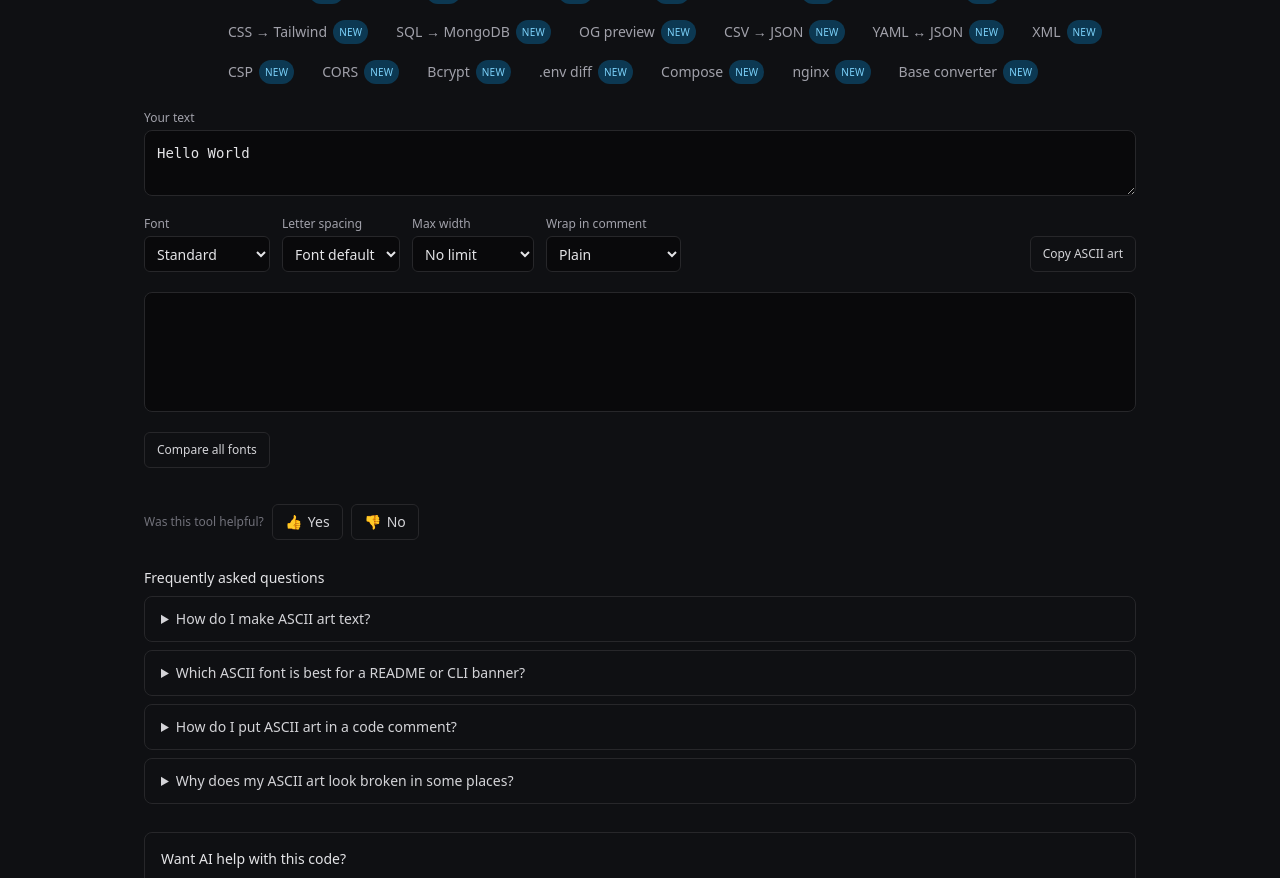
Scenario: AsciiArtPage › opens the font gallery and picks a font from it
(page scrolled)
Click the button with test id "ascii-gallery-toggle": (207, 450) 144,432 -> 270,468
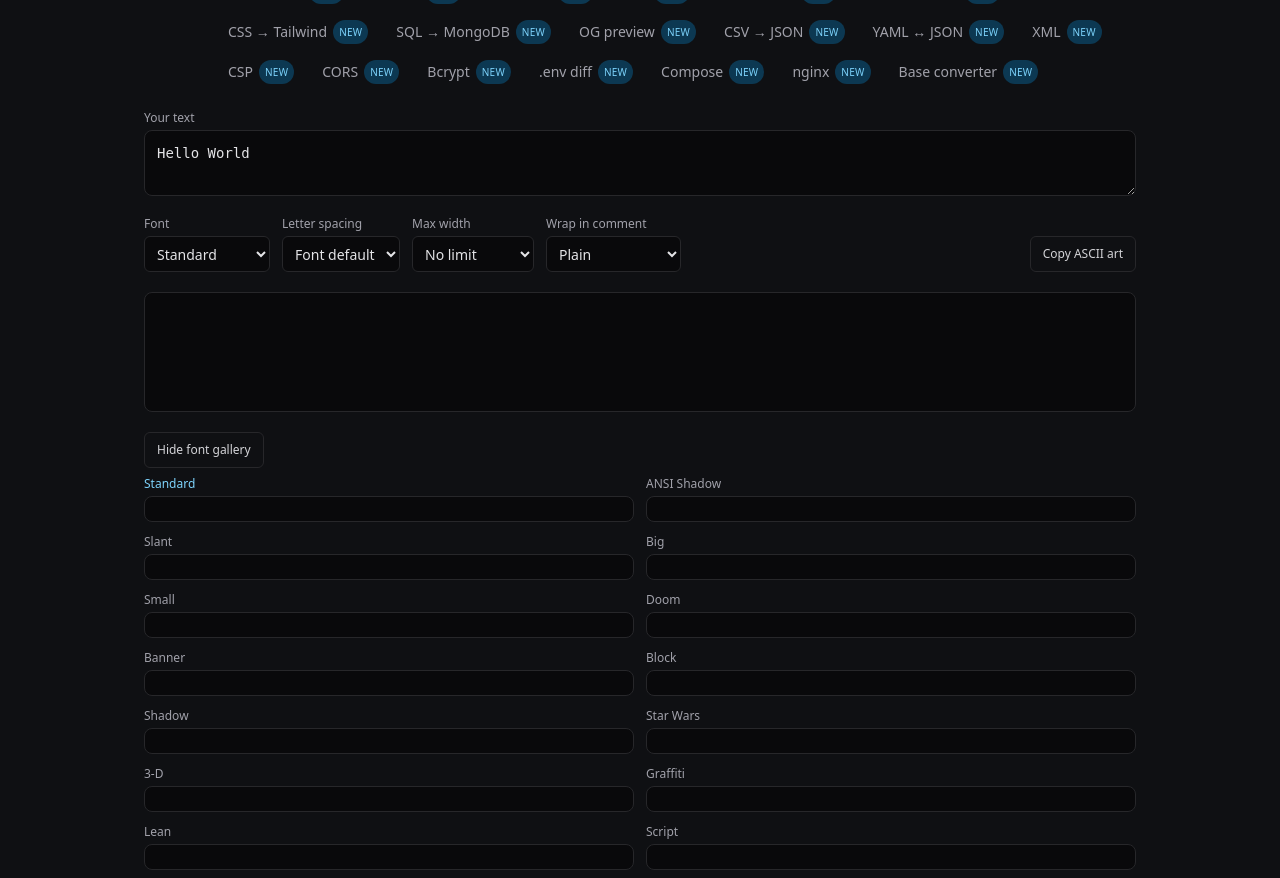
Check: the button with test id "ascii-gallery-Slant" is shown
Click the button with test id "ascii-gallery-Slant": (389, 557) 144,534 -> 634,580
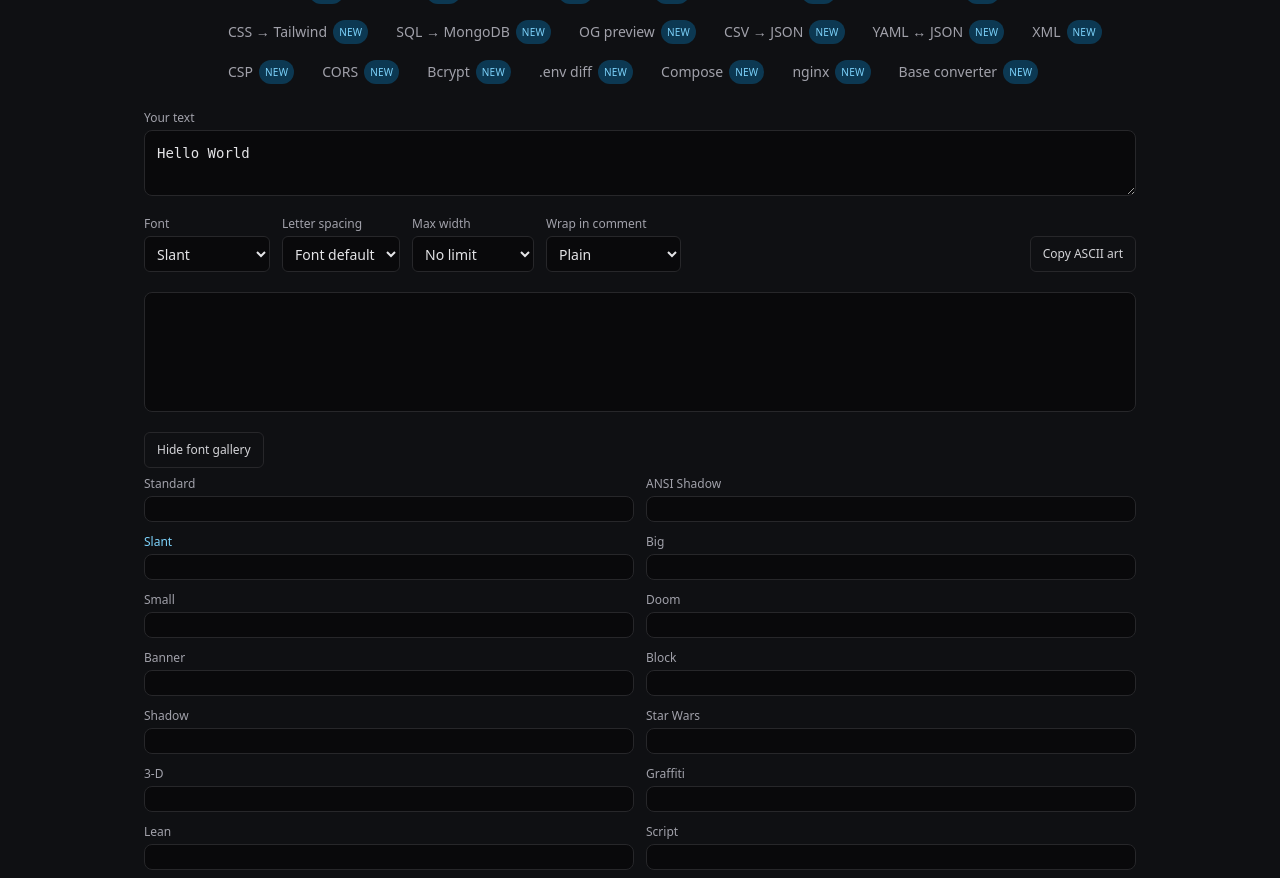
Check: the dropdown with test id "ascii-font" shows "Slant", box 144,236 -> 270,272
